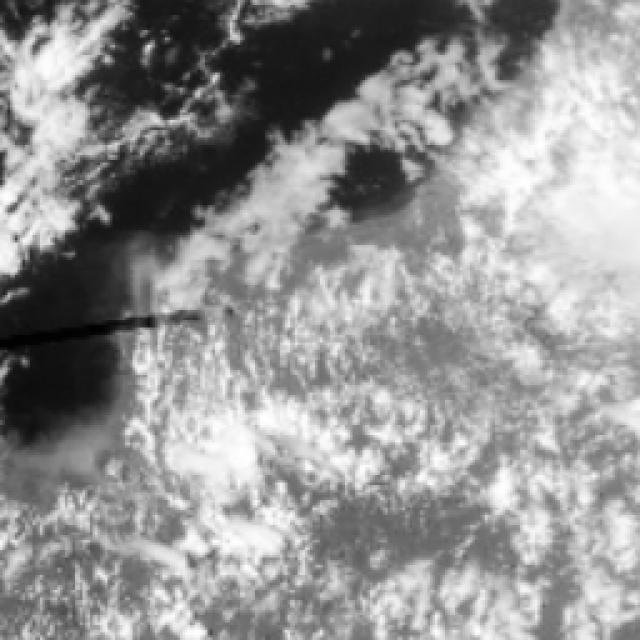CB: (545, 90, 640, 328)
